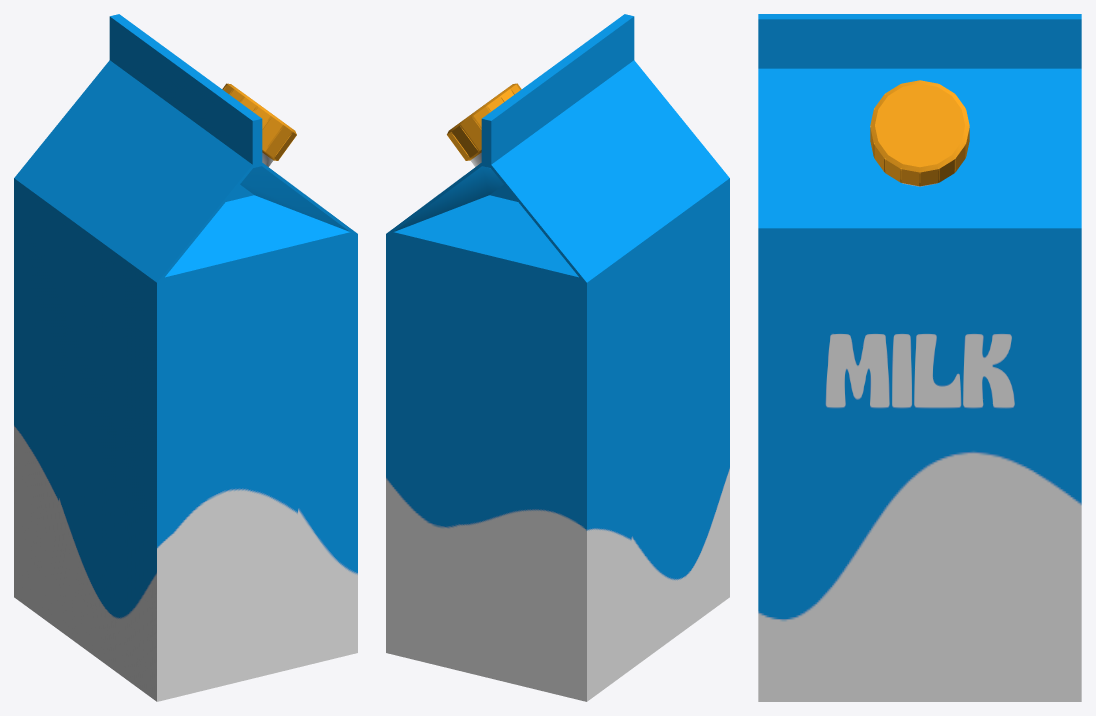
File: milk.fbx
The picture shows the model from 3 angles, left to right: view 1: azimuth 30°, elevation 25°; view 2: azimuth 150°, elevation 25°; view 3: azimuth 270°, elevation 25°; orthographic projection. The views are drawn at different scales.
Visible parts, largest first — view 1: Milk; view 2: Milk; view 3: Milk.
Boxes of the visible parts, x1,y1,x2,y2 form: Milk: (14,14,357,701); Milk: (386,14,729,701); Milk: (758,14,1081,701).
Bounding box in the file's own units: 252 × 657 × 305.
Materials: 5 (2 with a texture image).
